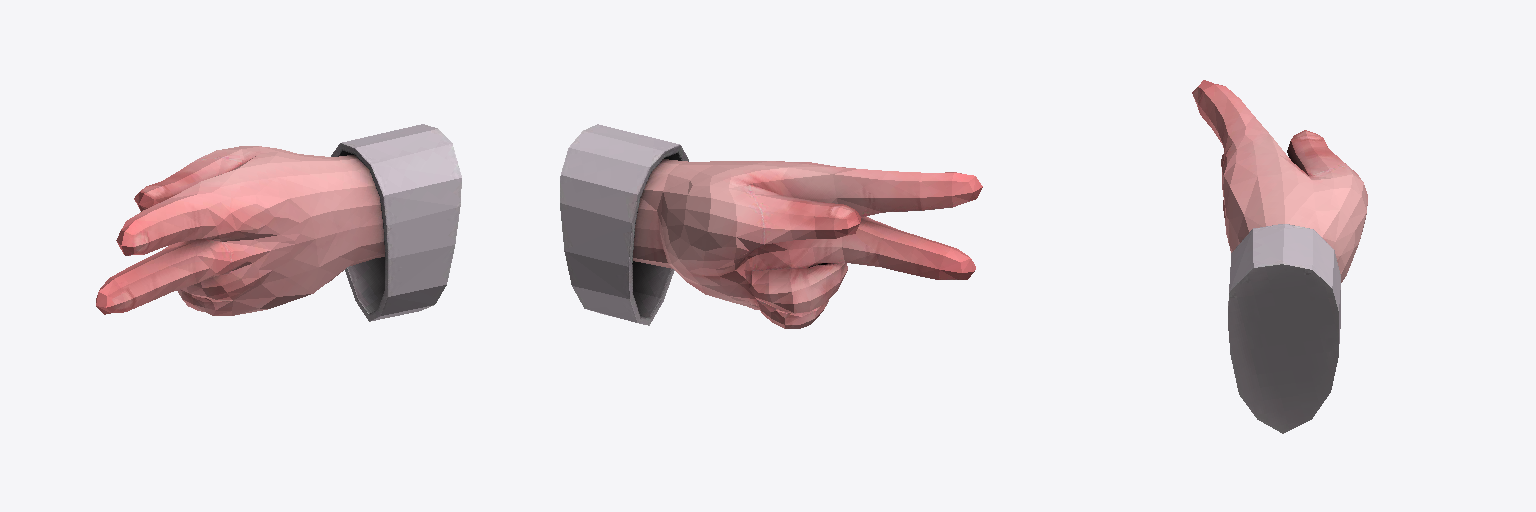
3 renders of one model, left to right at view 1: azimuth 30°, elevation 25°; view 2: azimuth 150°, elevation 25°; view 3: azimuth 270°, elevation 25°, orthographic.
Visible parts, largest first — view 1: hand-left; view 2: hand-left; view 3: hand-left.
Boxes of the visible parts, x1,y1,x2,y2 form: hand-left: [96, 124, 461, 321]; hand-left: [560, 124, 982, 328]; hand-left: [1192, 80, 1367, 433].
Bounding box in the file's own units: 0.3688 × 0.1858 × 0.1531.
Materials: 1 (1 with a texture image).